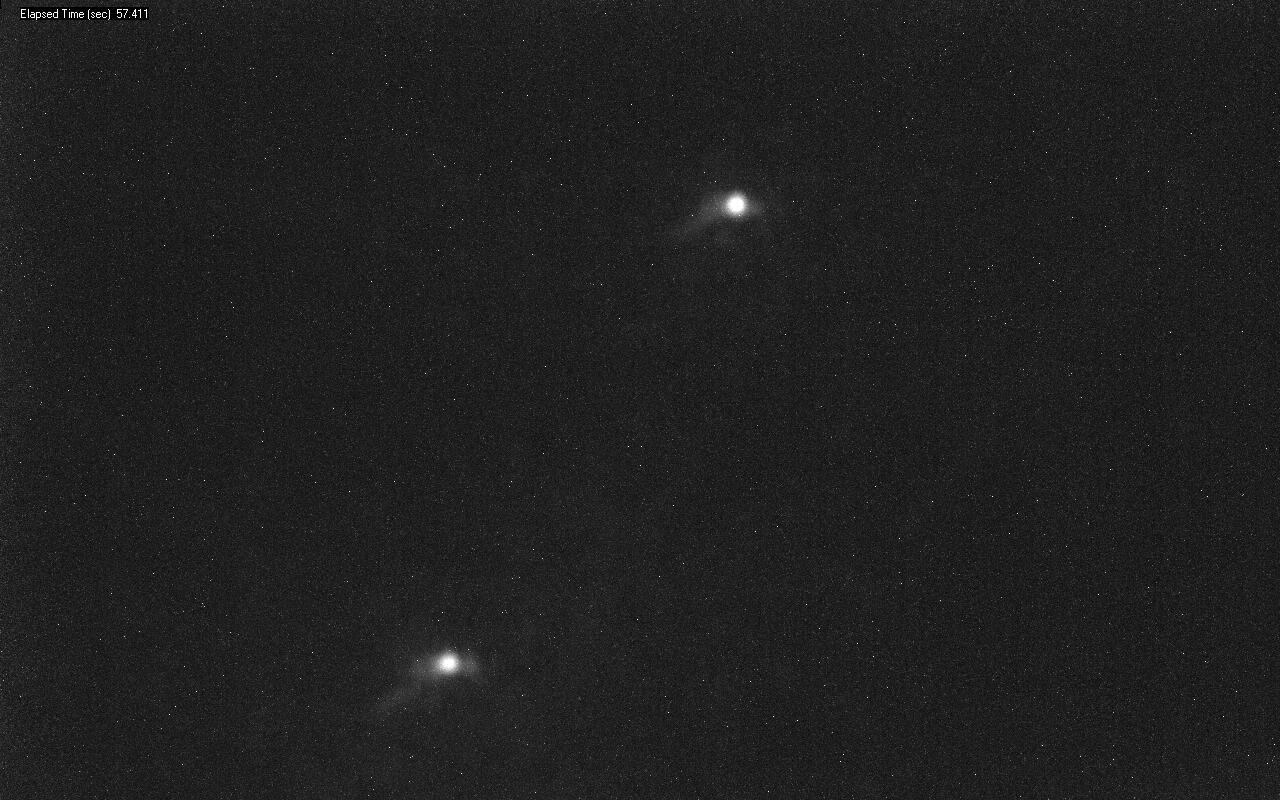Bead: (716, 192, 750, 219), (433, 653, 460, 674)
